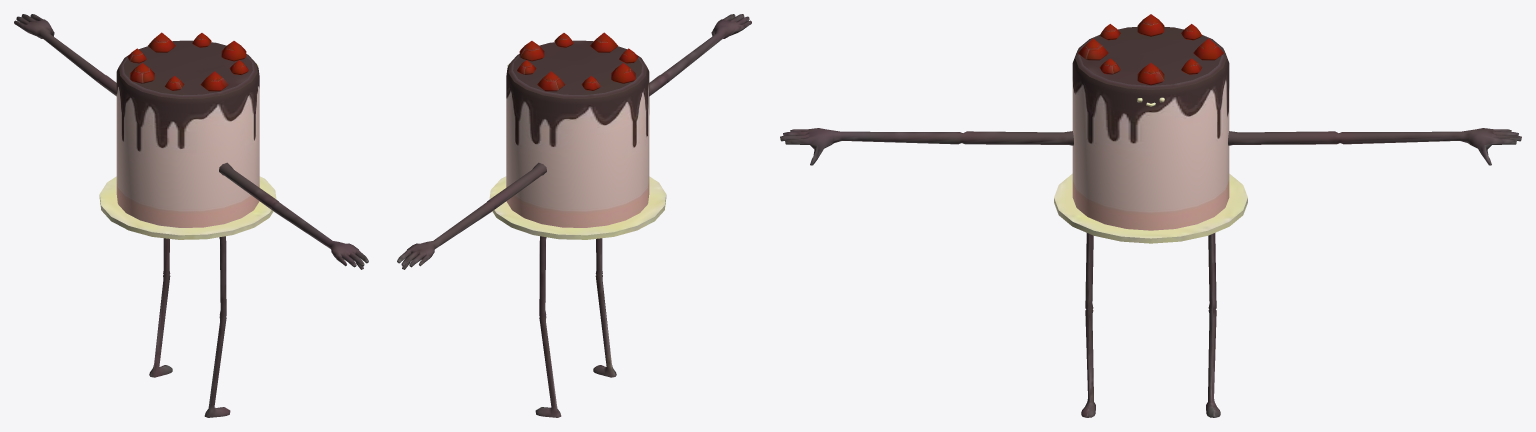
Rendered from objects-cake-character-252.glb.
3 views of the same model, side by side, from view 1: azimuth 30°, elevation 25°; view 2: azimuth 150°, elevation 25°; view 3: azimuth 270°, elevation 25° (orthographic). The views are drawn at different scales.
Parts seen in each view (by area): view 1: _100Avatars_144_RealCake; view 2: _100Avatars_144_RealCake; view 3: _100Avatars_144_RealCake.
Boxes of the visible parts, x1,y1,x2,y2 form: _100Avatars_144_RealCake: [14, 14, 368, 417]; _100Avatars_144_RealCake: [397, 14, 751, 417]; _100Avatars_144_RealCake: [780, 14, 1521, 417].
Size of the model in its own units: 1.43 by 3.04 by 5.48.
1 material, 1 textured.
